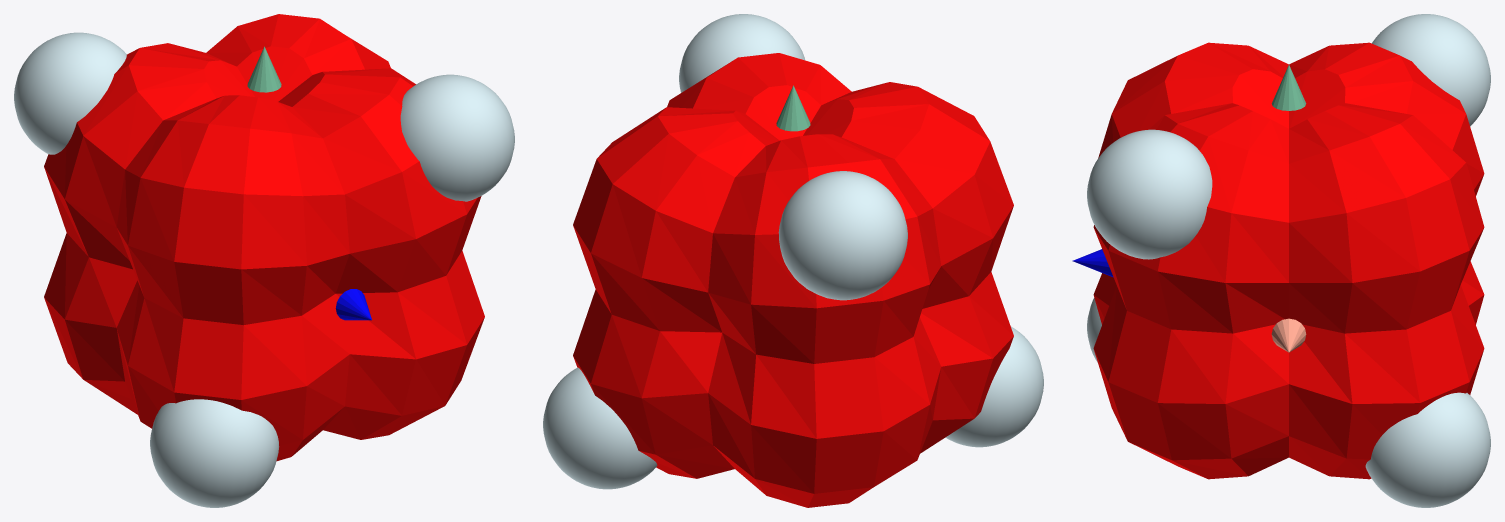
The picture shows the model from 3 angles, left to right: view 1: azimuth 30°, elevation 25°; view 2: azimuth 150°, elevation 25°; view 3: azimuth 270°, elevation 25°; orthographic projection.
Parts seen in each view (by area): view 1: Renderer Node (×2); view 2: Renderer Node (×2); view 3: Renderer Node (×2).
Part boxes in pixels (x1,y1,x2,y2): Renderer Node (×2): (14,14,514,507); Renderer Node (×2): (543,14,1043,507); Renderer Node (×2): (1072,14,1490,507).
Size of the model in its own units: 1.93 by 1.93 by 1.93.
